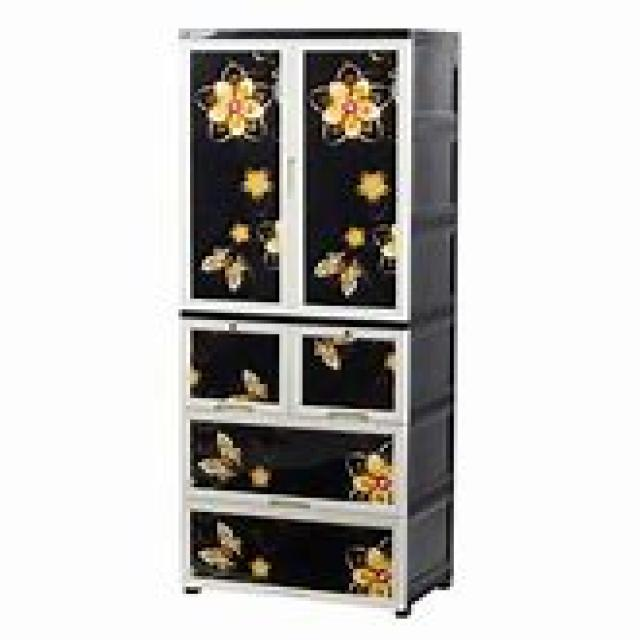dolap: (175, 25, 458, 615)
